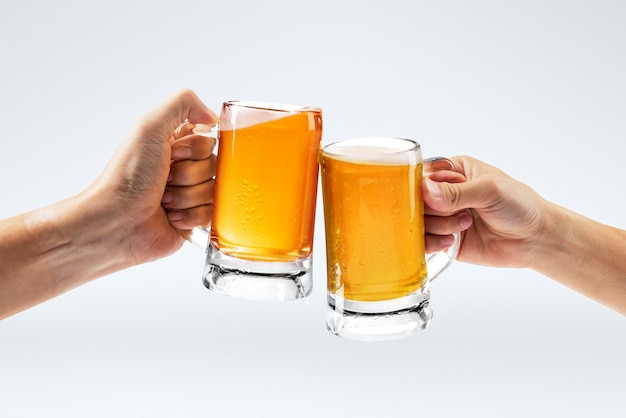alcohol: (169, 86, 324, 303), (316, 135, 466, 339)
